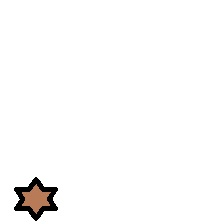star: (13, 177, 57, 220)
